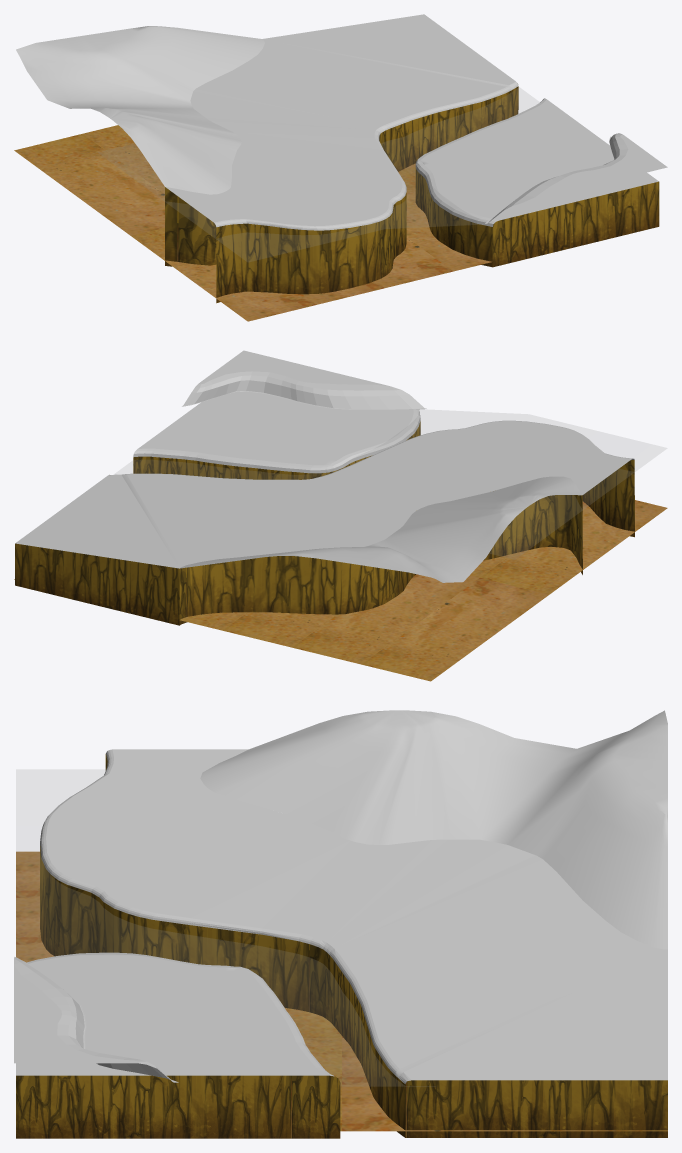
File: terrain 1_1.FBX
3 renders of one model, top to bottom at view 1: azimuth 30°, elevation 25°; view 2: azimuth 150°, elevation 25°; view 3: azimuth 270°, elevation 25°, orthographic. The views are drawn at different scales.
Parts seen in each view (by area): view 1: Object031, Object026, Object028, Plane030, Object027, Plane031, Object032, Object030; view 2: Object031, Object028, Plane030, Object027, Object026, Plane031, Object030, Object032; view 3: Object031, Object026, Object028, Object027, Plane031, Object032, Plane030, Object030.
Boxes of the visible parts, x1=… form: Object031: x1=165, y1=14, x2=518, y2=230; Object026: x1=16, y1=26, x2=264, y2=194; Object028: x1=165, y1=86, x2=518, y2=303; Plane030: x1=14, y1=125, x2=491, y2=321; Object027: x1=415, y1=98, x2=658, y2=226; Plane031: x1=98, y1=87, x2=539, y2=261; Object032: x1=415, y1=168, x2=659, y2=267; Object030: x1=485, y1=133, x2=667, y2=223; Object031: x1=15, y1=420, x2=634, y2=568; Object028: x1=15, y1=460, x2=634, y2=625; Plane030: x1=14, y1=500, x2=667, y2=681; Object027: x1=133, y1=391, x2=420, y2=473; Object026: x1=180, y1=476, x2=582, y2=582; Plane031: x1=114, y1=410, x2=666, y2=559; Object030: x1=182, y1=350, x2=426, y2=409; Object032: x1=133, y1=421, x2=420, y2=479; Object031: x1=40, y1=749, x2=667, y2=1083; Object026: x1=200, y1=710, x2=667, y2=949; Object028: x1=40, y1=754, x2=667, y2=1137; Object027: x1=16, y1=952, x2=334, y2=1076; Plane031: x1=16, y1=770, x2=403, y2=1085; Object032: x1=16, y1=1075, x2=340, y2=1138; Plane030: x1=16, y1=851, x2=667, y2=1131; Object030: x1=14, y1=957, x2=178, y2=1082.
Bounding box in the file's own units: 982 × 240 × 946.
